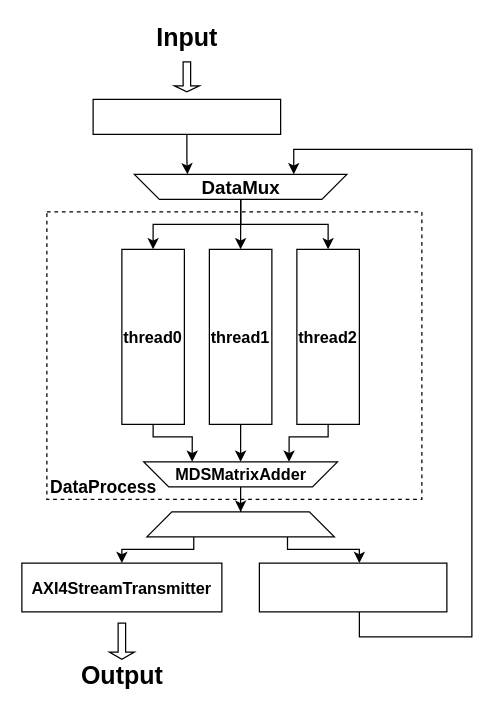
This 504x710 diagram has some shape labels left out. Here are the shapes that lost their labels. From the top down, the box of each, then its label:
(92, 98, 281, 134): AXI4StreamReceiver
(146, 511, 334, 537): DataDeMux
(258, 562, 447, 612): DataLoopbackBuffer
